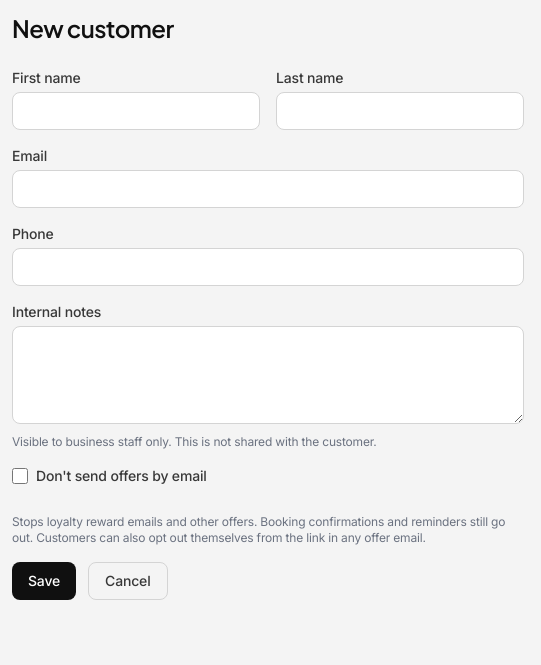
Test: CustomerForm — server rejections › shows the server’s per-field messages beside the fields
This screenshot has width=541, height=665.
Type "Oliver" into the field labelled "First name".
click(136, 111); type("Oliver")  # box left=12, top=92, right=260, bottom=130
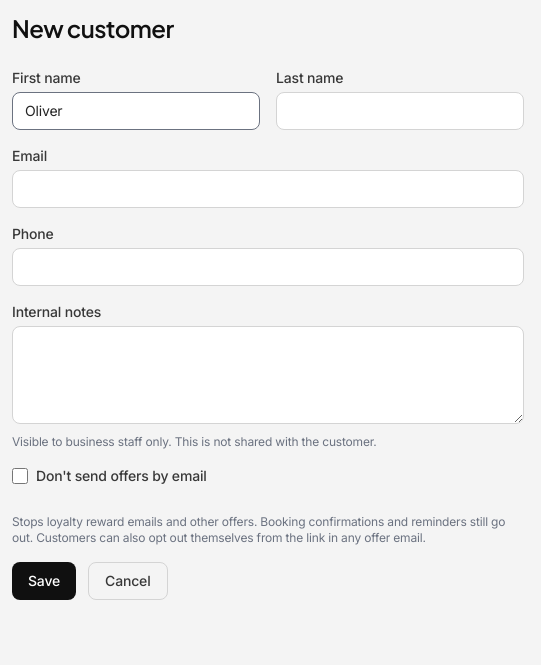
Type "Bennett" into the field labelled "Last name".
click(400, 111); type("Bennett")  # box left=276, top=92, right=524, bottom=130
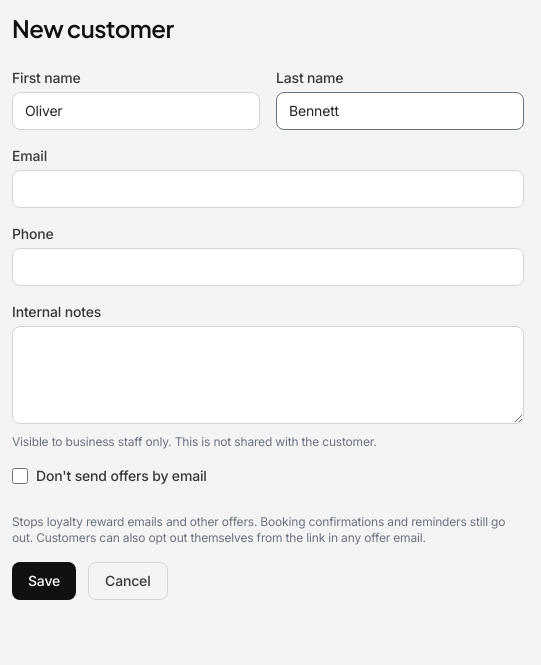
Type "nope@nope" into the field labelled "Email".
click(268, 189); type("nope@nope")  # box left=12, top=170, right=524, bottom=208
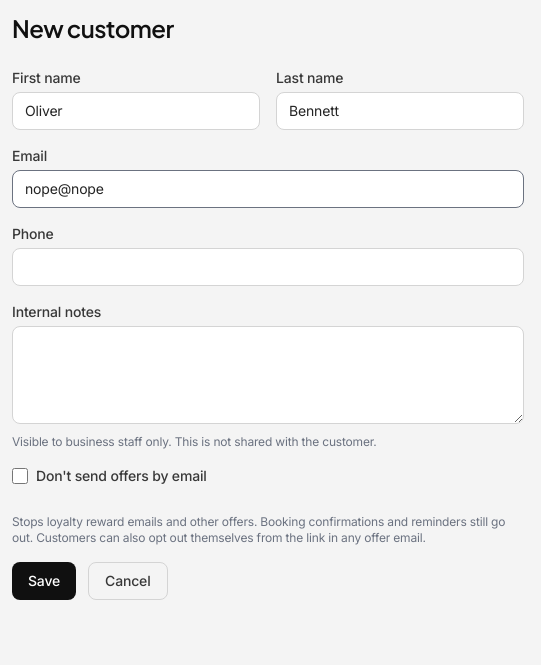
Click the button "Save".
click(44, 581)  # box left=12, top=562, right=76, bottom=600
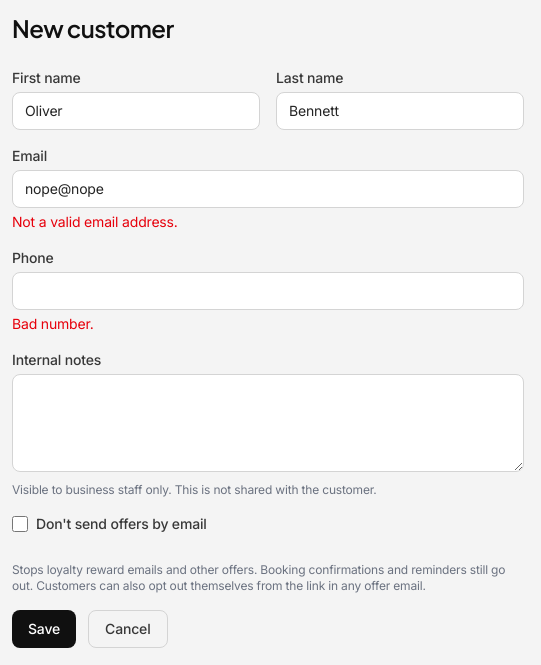
expect the text "Not a valid email address." is shown: met, box left=12, top=213, right=178, bottom=230
expect the text "Bad number." is shown: met, box left=12, top=315, right=94, bottom=332
